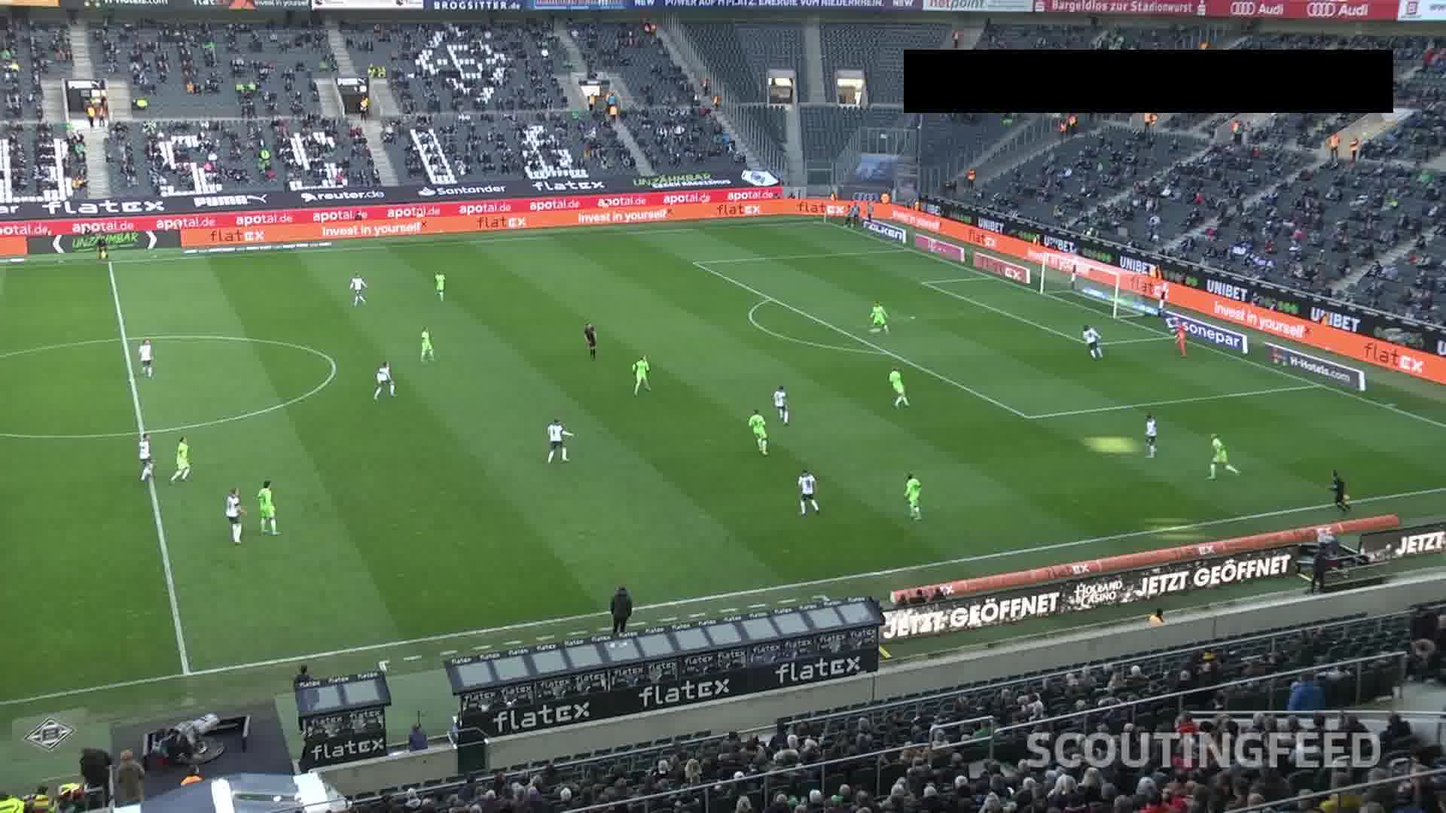coach_staff: (276, 665, 319, 720), (611, 581, 639, 661)
goalkeeper: (1166, 316, 1191, 359)
player: (1200, 430, 1234, 479), (882, 364, 908, 414), (1133, 409, 1159, 459), (260, 482, 282, 541), (541, 417, 571, 458), (221, 487, 242, 543), (132, 437, 157, 482), (797, 464, 820, 512), (746, 406, 768, 453), (134, 335, 158, 378), (370, 359, 397, 396), (902, 470, 921, 519), (172, 434, 191, 479), (345, 271, 368, 307), (631, 354, 653, 391), (415, 327, 437, 363), (772, 380, 791, 418), (1081, 321, 1100, 359), (867, 301, 887, 334), (431, 267, 449, 301)
referee: (1323, 464, 1351, 507), (581, 322, 605, 358), (95, 235, 117, 266)
